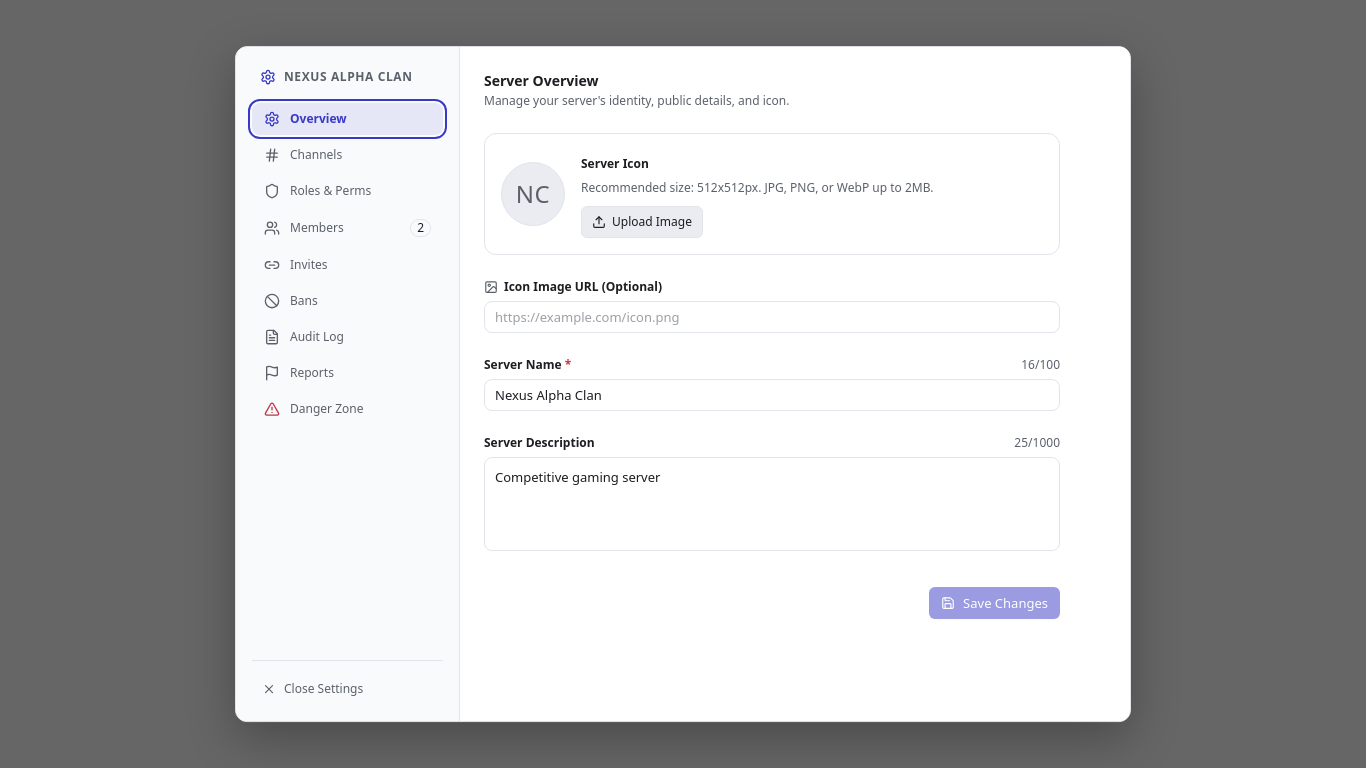
Scenario: Server Settings Modal & Dialog Flow Tests (Clean Pro) › prohibits treating users as owner when server.owner_id is empty or null (SS-R4 / SS-S1)
// Click Danger Zone tab
Step 1. Click the button "Danger Zone" → [348, 409], box [252,393,443,425]
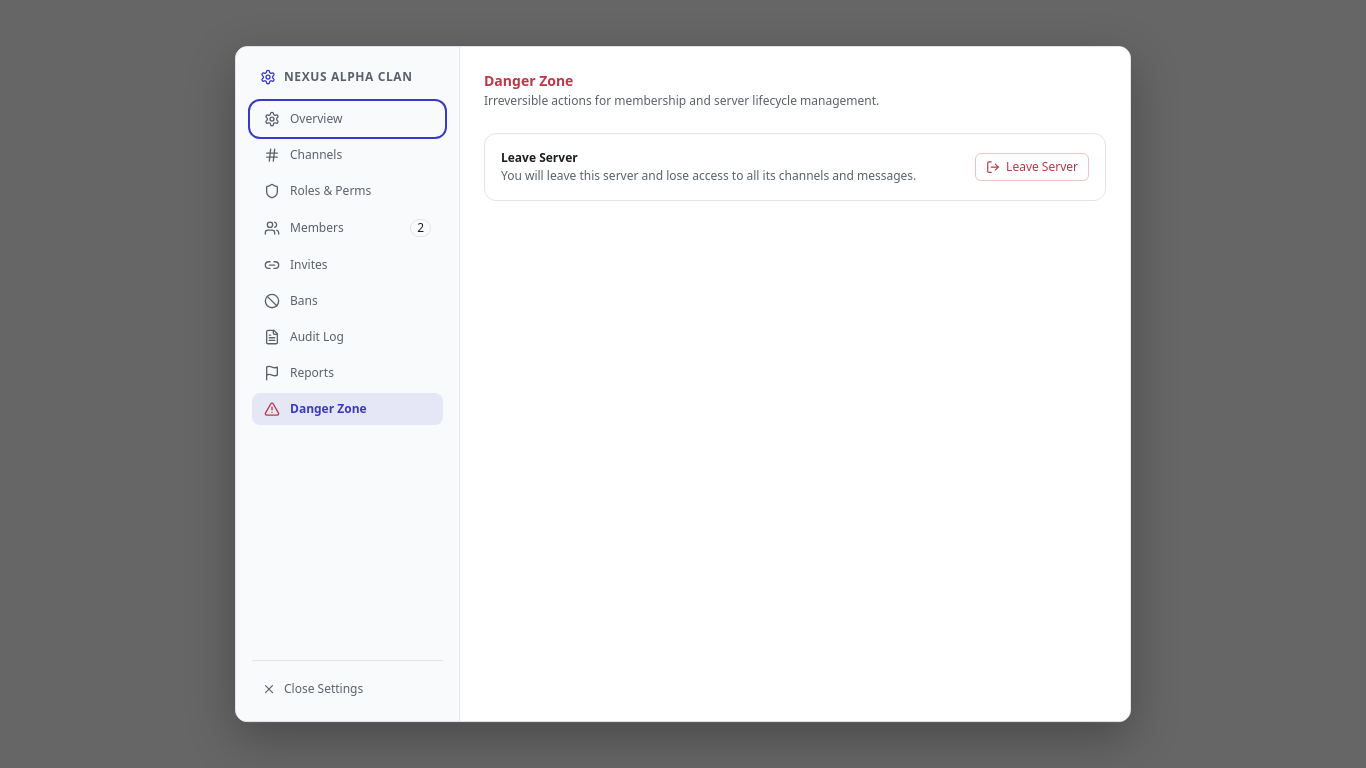
Now the heading "Leave Server" is shown, box [501,149,578,166]
